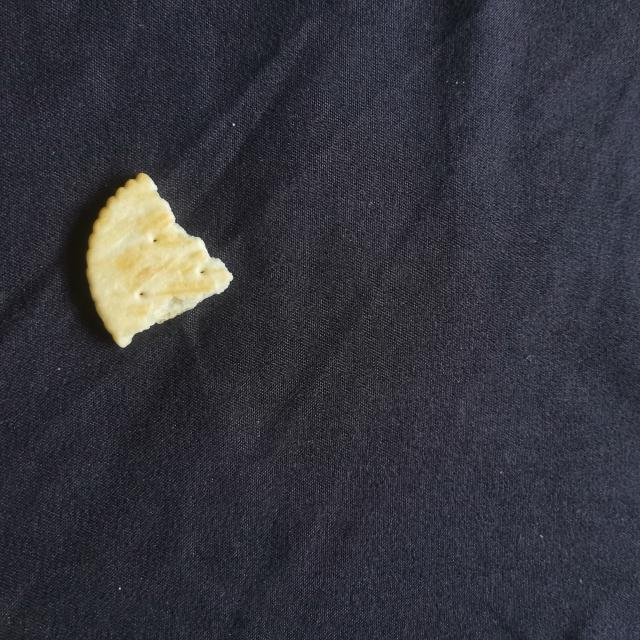Broken: (85, 171, 234, 349)
